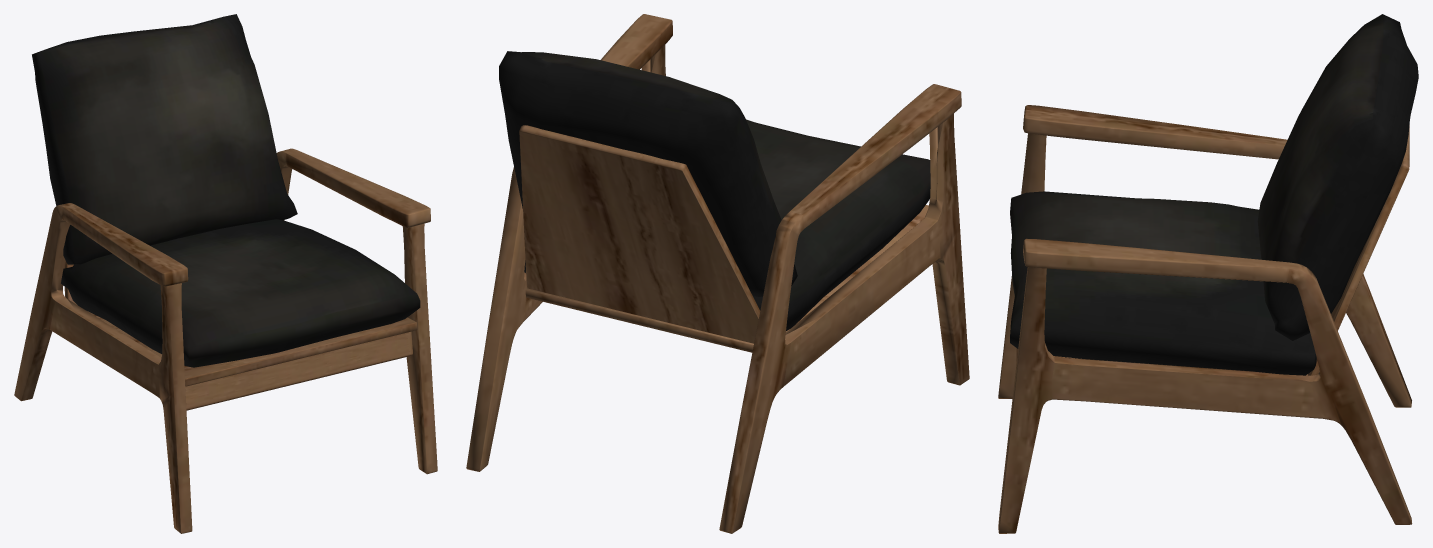
The model's file is modern_arm_chair_01.glb.
The picture shows the model from 3 angles, left to right: view 1: azimuth 30°, elevation 25°; view 2: azimuth 150°, elevation 25°; view 3: azimuth 270°, elevation 25°; orthographic projection. The views are drawn at different scales.
Parts seen in each view (by area): view 1: modern_arm_chair_01; view 2: modern_arm_chair_01; view 3: modern_arm_chair_01.
Part boxes in pixels (x1,y1,x2,y2): modern_arm_chair_01: (14,14,437,533); modern_arm_chair_01: (466,14,969,533); modern_arm_chair_01: (998,14,1418,533).
Bounding box in the file's own units: 0.8203 × 1.02 × 0.9865.
Materials: 2 (2 with a texture image).
